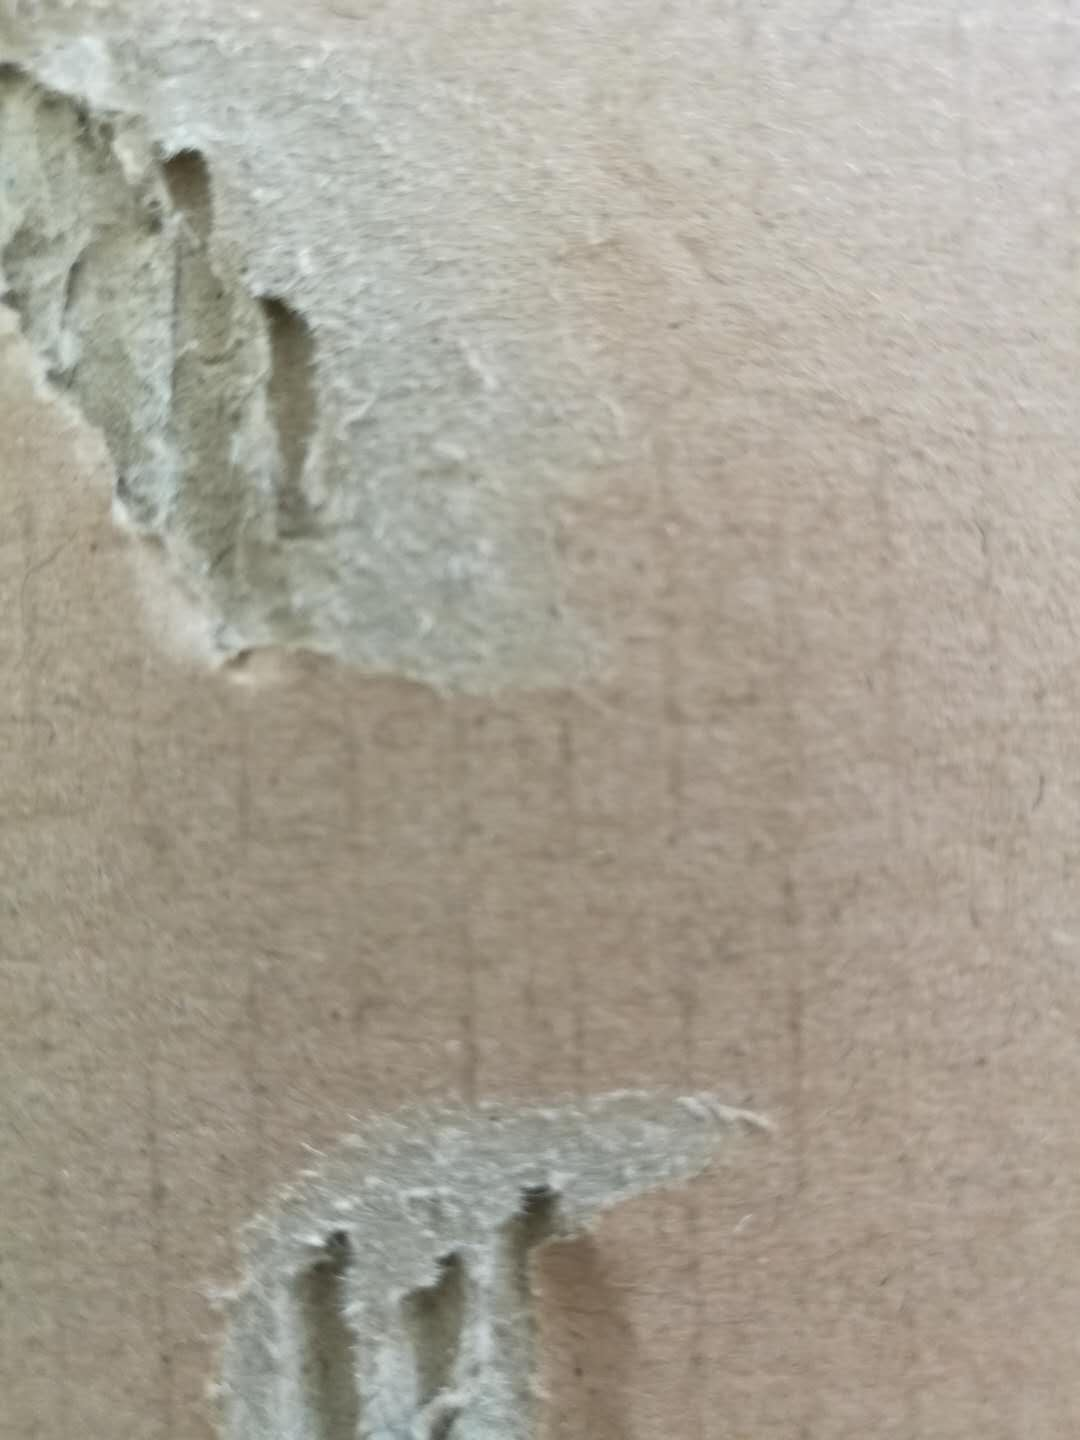defect: (3, 2, 659, 761), (175, 1056, 815, 1440)
